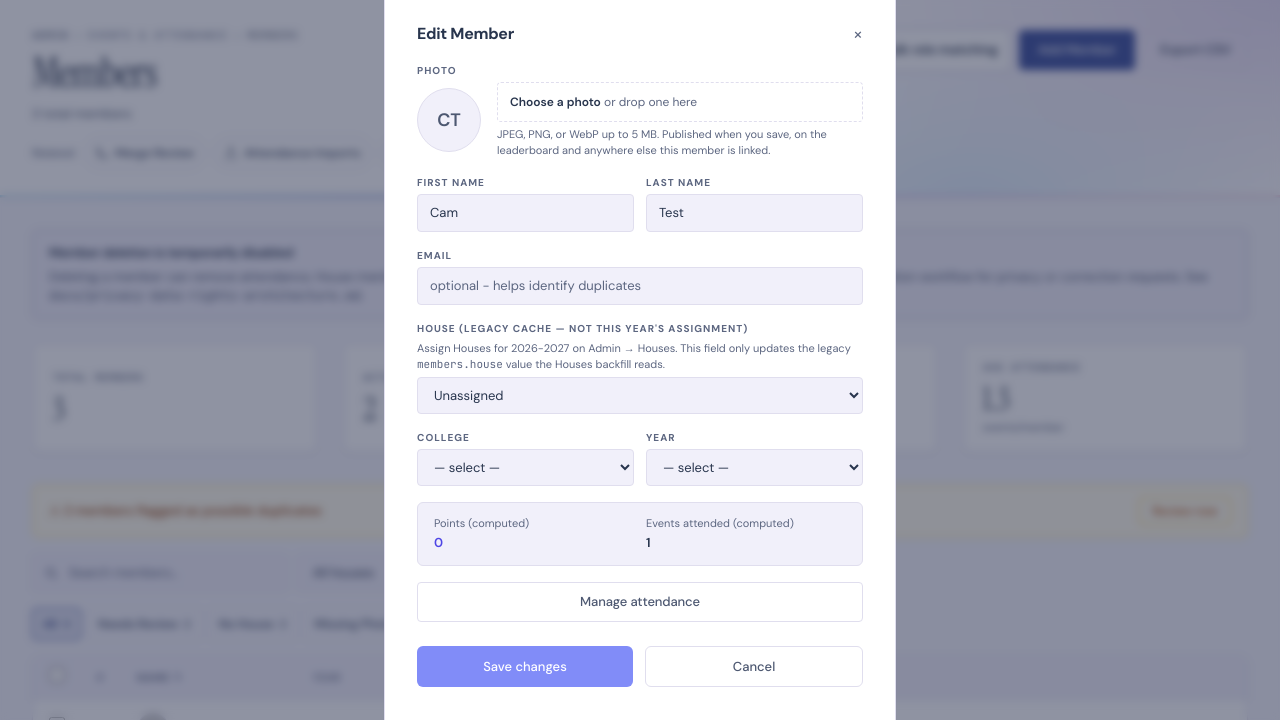
keeps Save disabled until something changes, then shows Unsaved changes
Check: the heading "Edit Member" is shown, box [417, 25, 514, 43]
Check: the button "Save changes" is disabled, box [417, 646, 633, 687]
Replace the text in the field showing "Cam" below "First name" with "Cameron" at (526, 213), box [417, 194, 634, 232]
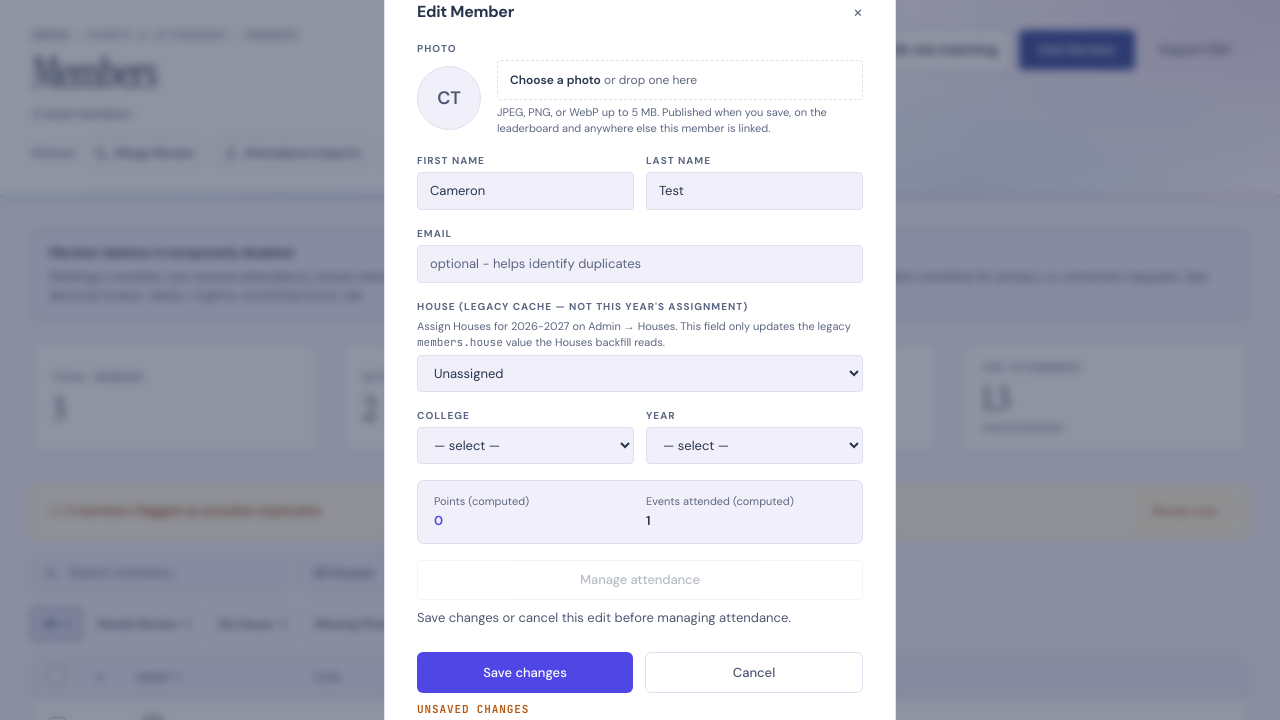
Check: the button "Save changes" is enabled, box [417, 652, 633, 693]
Check: the text "Unsaved changes" is shown, box [417, 702, 529, 716]
